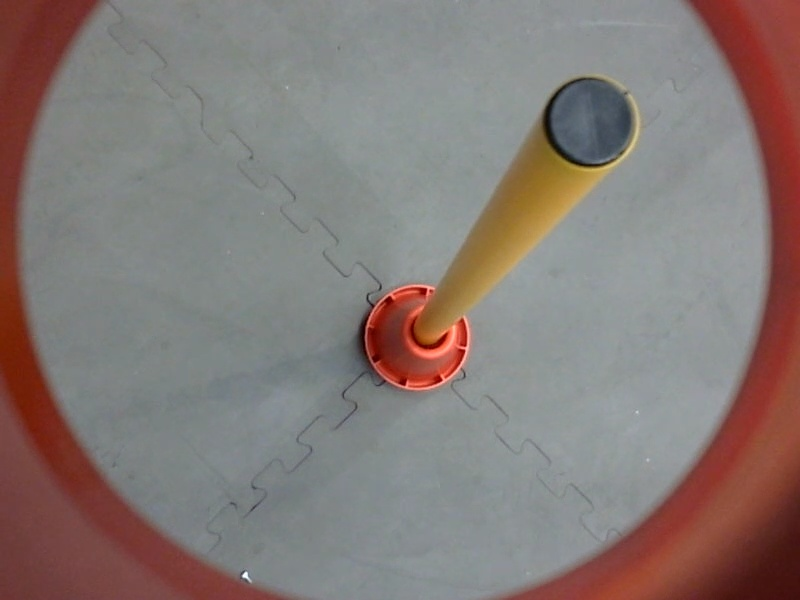tip: (536, 65, 648, 181)
